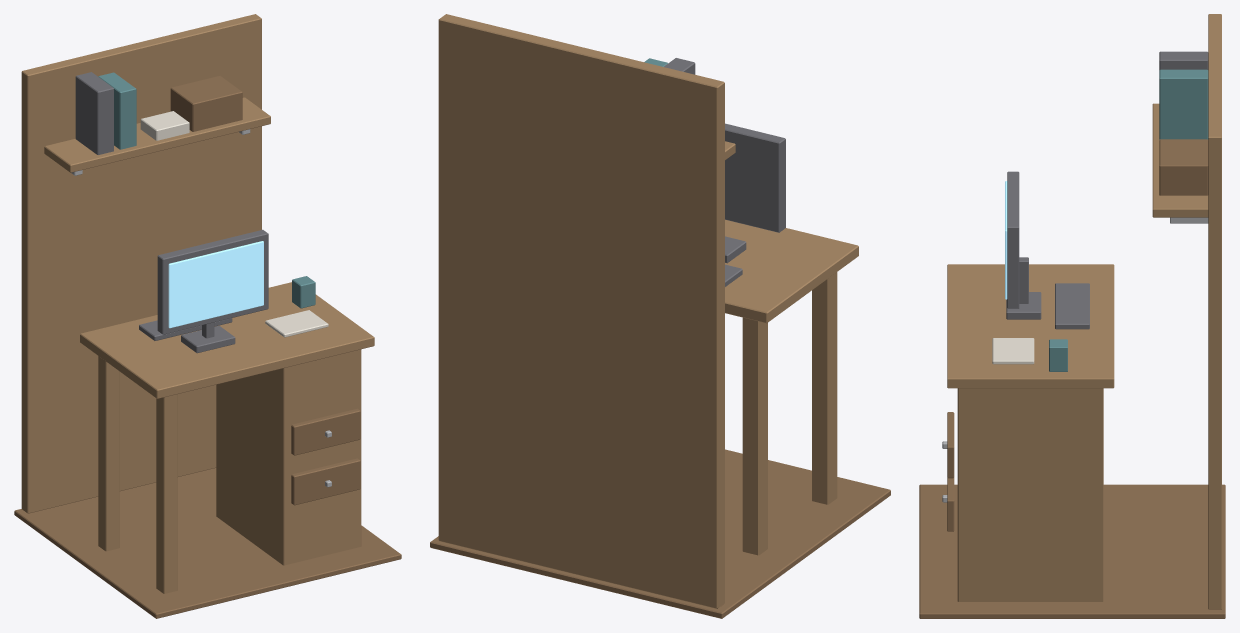
Rendered from prop_back_office_glimpse_01.glb.
3 renders of one model, left to right at view 1: azimuth 30°, elevation 25°; view 2: azimuth 150°, elevation 25°; view 3: azimuth 270°, elevation 25°, orthographic. The views are drawn at different scales.
Visible parts, largest first — view 1: prop_back_office_glimpse_01; view 2: prop_back_office_glimpse_01; view 3: prop_back_office_glimpse_01.
Boxes of the visible parts, box(x1,y1,x2,y2) form: prop_back_office_glimpse_01: box(14, 14, 401, 618); prop_back_office_glimpse_01: box(430, 14, 890, 618); prop_back_office_glimpse_01: box(919, 14, 1225, 618).
Bounding box in the file's own units: 0.88 × 1.52 × 0.88.
